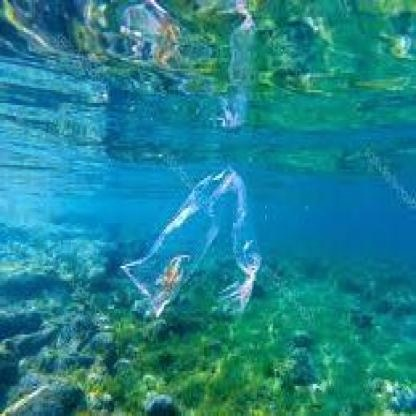pbag: (119, 165, 262, 315)
